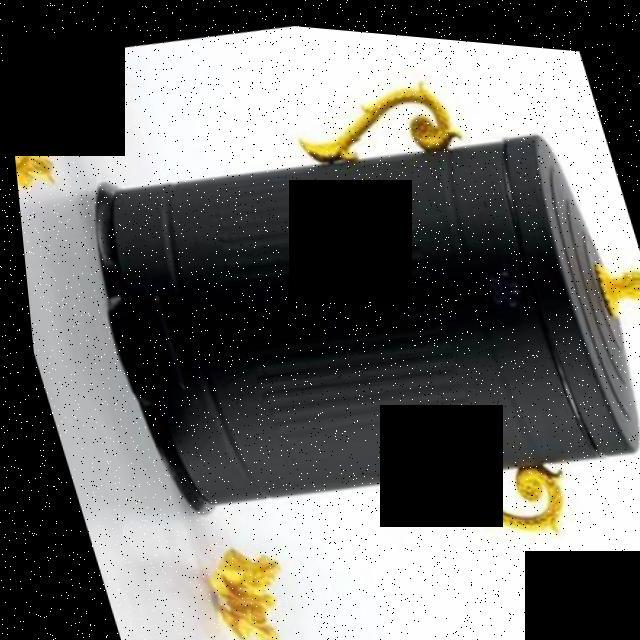bin: (25, 2, 640, 622)
